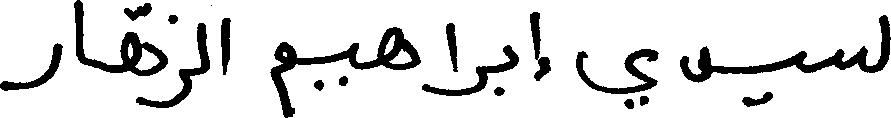X: (576, 44, 658, 113), (119, 0, 166, 112), (837, 10, 890, 77), (0, 38, 61, 95), (168, 10, 191, 112), (379, 22, 420, 74), (269, 37, 295, 117), (680, 41, 712, 87), (458, 61, 487, 100), (196, 18, 210, 79), (446, 18, 456, 100), (504, 40, 517, 96), (221, 13, 231, 79), (530, 7, 538, 85), (75, 0, 84, 69), (347, 38, 359, 87), (793, 46, 808, 77)
